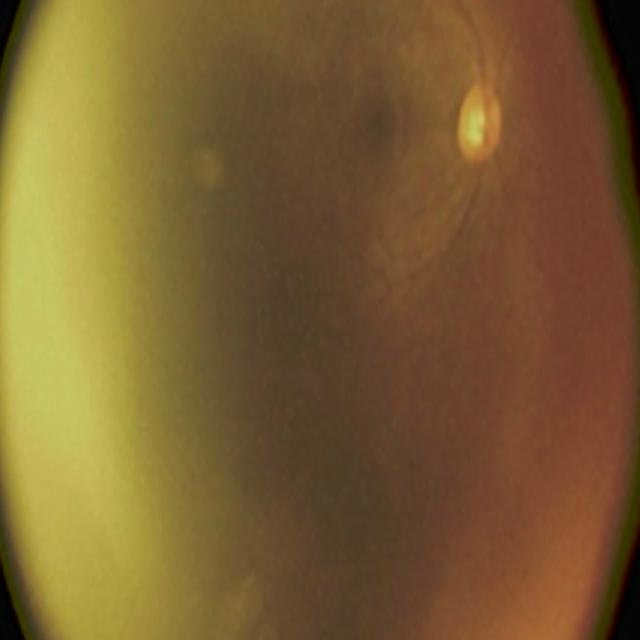optic-nerve: (421, 38, 530, 222)
